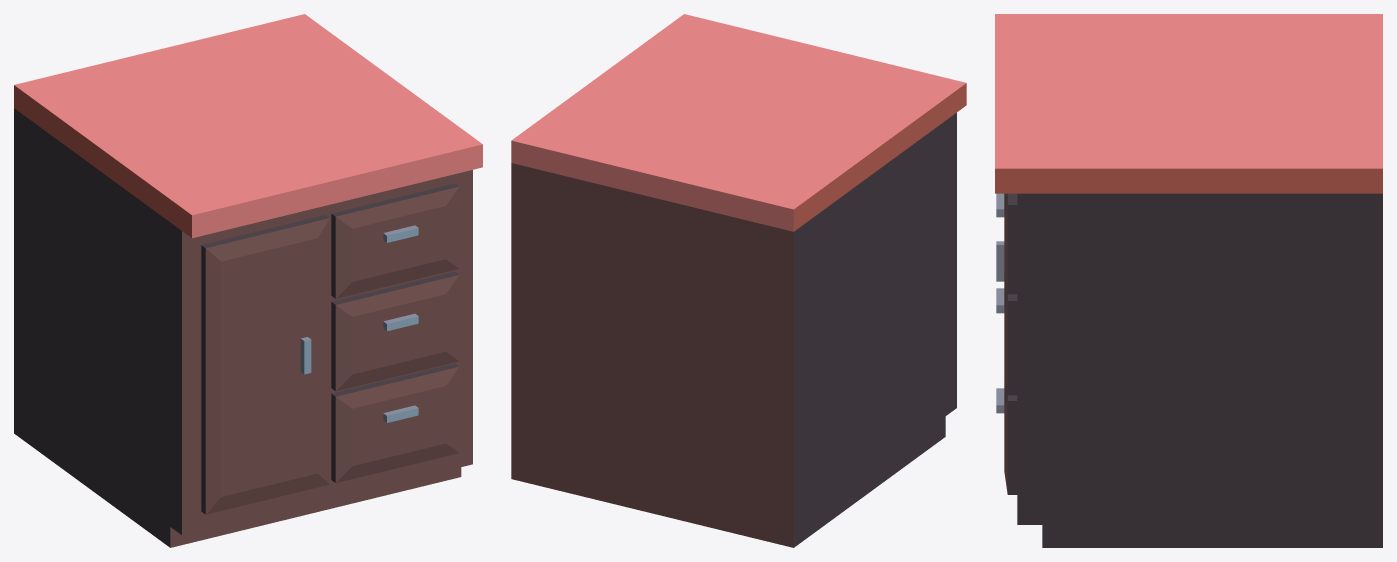
The model's file is Kitchen Cabinet v3.fbx.
The picture shows the model from 3 angles, left to right: view 1: azimuth 30°, elevation 25°; view 2: azimuth 150°, elevation 25°; view 3: azimuth 270°, elevation 25°; orthographic projection. The views are drawn at different scales.
Visible parts, largest first — view 1: Kitchen Cabinet v3; view 2: Kitchen Cabinet v3; view 3: Kitchen Cabinet v3.
Part boxes in pixels (bbox=[...]): Kitchen Cabinet v3: bbox=[14, 14, 482, 547]; Kitchen Cabinet v3: bbox=[511, 14, 966, 547]; Kitchen Cabinet v3: bbox=[995, 14, 1382, 547].
Bounding box in the file's own units: 200 × 229 × 212.
